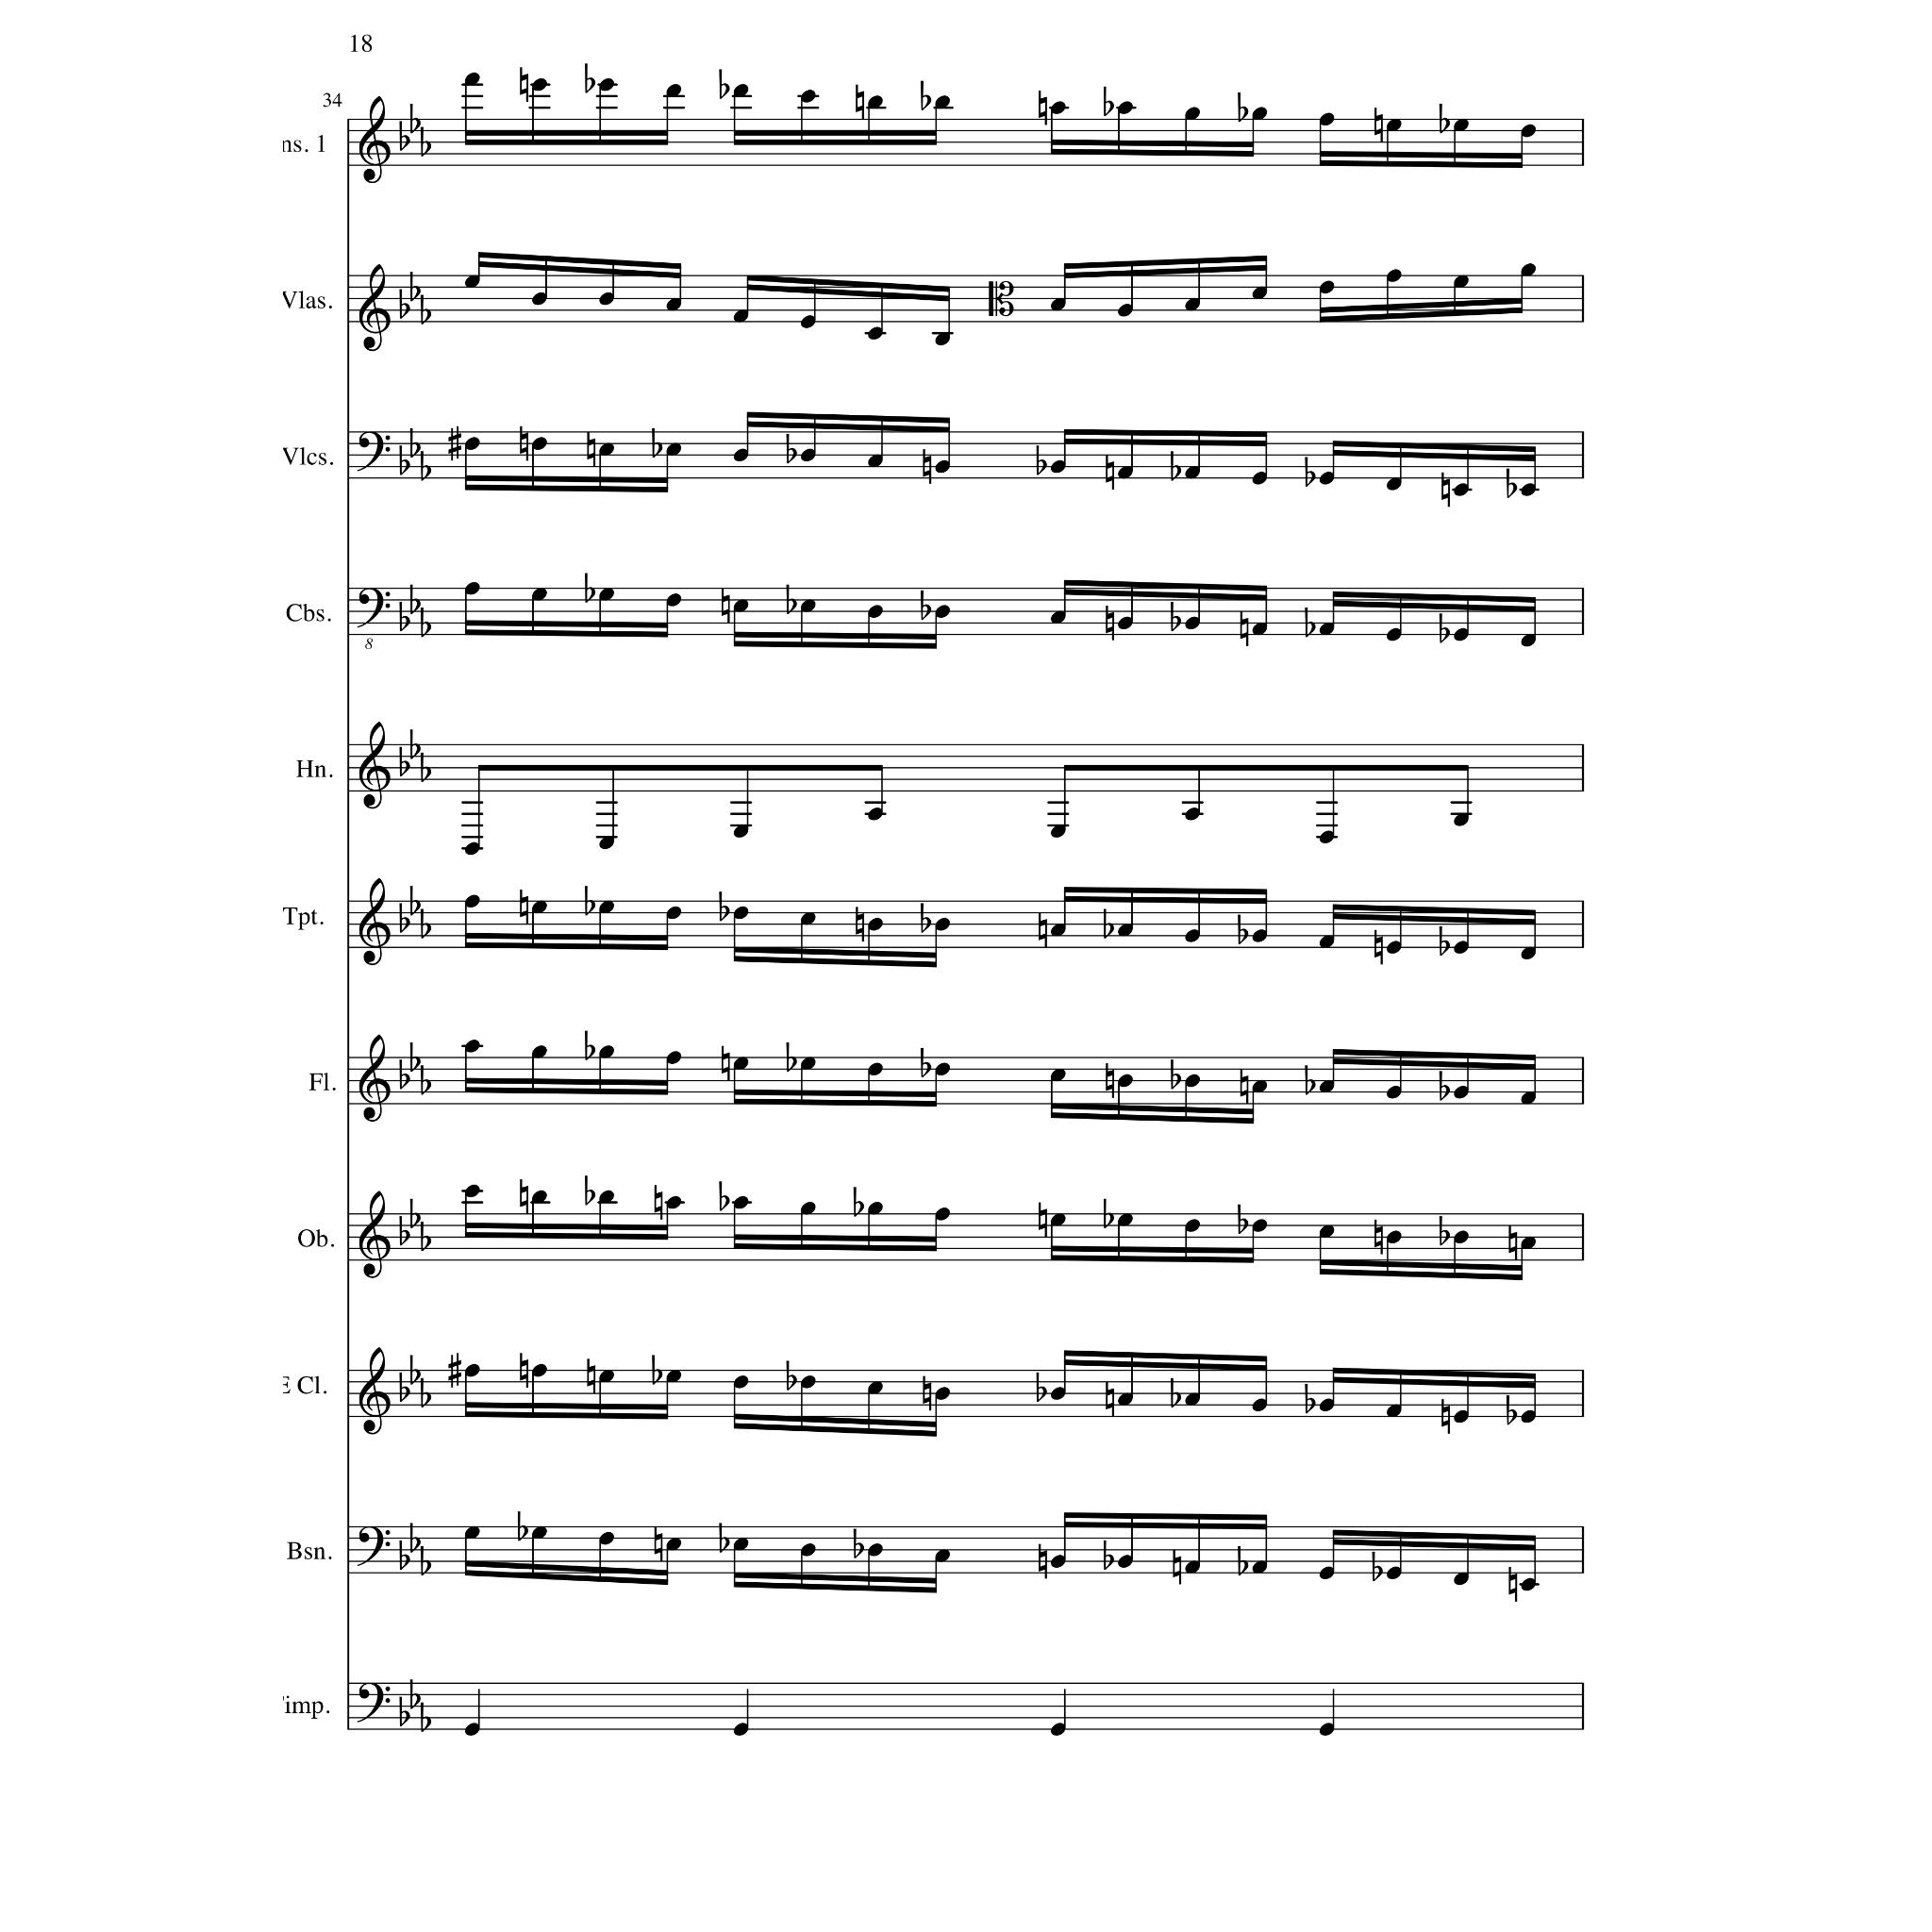fClef: (357, 589, 391, 628), (357, 1683, 391, 1723), (357, 1526, 391, 1566), (357, 432, 391, 472)
gClef: (358, 877, 391, 966), (358, 1191, 391, 1279), (358, 1034, 391, 1123), (358, 722, 391, 810), (358, 1347, 391, 1436), (358, 95, 391, 184)
noteheadBlack: (1453, 1230, 1470, 1245), (1453, 1085, 1470, 1100), (598, 836, 615, 851), (598, 77, 615, 92), (530, 77, 547, 92), (934, 332, 951, 347), (732, 1057, 749, 1072), (800, 911, 817, 926), (800, 89, 817, 104), (800, 1057, 817, 1072), (1387, 1404, 1402, 1419), (1387, 1230, 1402, 1245), (1387, 1085, 1402, 1100), (464, 581, 479, 596), (1251, 108, 1268, 121), (1251, 929, 1268, 942), (1251, 1560, 1268, 1574), (1251, 287, 1268, 300), (1251, 1398, 1268, 1411), (1251, 1220, 1268, 1233), (1251, 1080, 1268, 1093), (1251, 623, 1268, 636), (1251, 472, 1268, 485), (1049, 1387, 1066, 1400), (1049, 1723, 1066, 1736), (1049, 1555, 1066, 1568), (1453, 1573, 1470, 1586), (1453, 1410, 1470, 1424), (1453, 941, 1470, 955), (1453, 813, 1470, 826), (1453, 628, 1470, 641), (1453, 484, 1470, 497), (1453, 275, 1470, 289), (1453, 119, 1470, 132), (598, 1046, 615, 1059), (598, 901, 615, 914), (598, 588, 615, 601), (598, 443, 615, 457), (598, 292, 615, 306), (598, 1191, 615, 1204), (598, 1532, 615, 1545), (598, 1370, 615, 1383), (1049, 1213, 1066, 1226), (530, 588, 547, 601), (530, 1526, 547, 1540), (530, 1364, 547, 1377), (530, 1191, 547, 1204), (530, 1046, 547, 1059), (530, 901, 547, 914), (530, 438, 547, 451), (530, 292, 547, 306), (1049, 1069, 1066, 1082), (1049, 924, 1066, 937), (1049, 825, 1066, 839), (1049, 611, 1066, 625), (1049, 460, 1066, 474), (1049, 298, 1066, 311), (1049, 102, 1066, 115), (934, 1063, 951, 1076), (934, 1549, 951, 1562), (934, 1387, 951, 1400), (934, 1207, 951, 1221), (934, 918, 951, 931), (934, 605, 951, 618), (934, 460, 951, 474), (934, 96, 951, 109), (732, 309, 749, 323), (732, 1723, 749, 1736), (732, 1538, 749, 1551), (732, 1375, 749, 1389), (732, 1196, 749, 1209), (732, 907, 749, 920), (732, 825, 749, 839), (732, 600, 749, 613), (732, 449, 749, 462), (732, 84, 749, 97), (800, 1543, 817, 1557), (800, 1375, 817, 1389), (800, 1202, 817, 1215), (800, 315, 817, 328), (800, 449, 817, 462), (800, 600, 817, 613), (1319, 831, 1334, 844), (1319, 1723, 1334, 1736), (1319, 1567, 1334, 1580), (1319, 1398, 1334, 1411), (1319, 1224, 1334, 1238), (1319, 1080, 1334, 1093), (1319, 935, 1334, 948), (1319, 623, 1334, 636), (1319, 472, 1334, 485), (1319, 281, 1334, 294), (1319, 113, 1334, 126), (1117, 617, 1132, 630), (1117, 466, 1132, 479), (1117, 304, 1132, 317), (1117, 102, 1132, 115), (1117, 924, 1132, 937), (1185, 466, 1200, 479), (1185, 1560, 1200, 1574), (1185, 1393, 1200, 1407), (1185, 1220, 1200, 1233), (1185, 1074, 1200, 1088), (1185, 929, 1200, 942), (1185, 808, 1200, 821), (1185, 617, 1200, 630), (1185, 298, 1200, 311), (1185, 108, 1200, 121), (1117, 1555, 1132, 1568), (1117, 1393, 1132, 1407), (1117, 1213, 1132, 1226), (1117, 1074, 1132, 1088), (1521, 264, 1536, 277), (1521, 125, 1536, 138), (1521, 484, 1536, 497), (1521, 1578, 1536, 1591), (1521, 1410, 1536, 1424), (1521, 1237, 1536, 1250), (1521, 1091, 1536, 1105), (1521, 947, 1536, 960), (1521, 634, 1536, 647), (1387, 1567, 1402, 1580), (1387, 941, 1402, 955), (1387, 628, 1402, 641), (1387, 477, 1402, 491), (1387, 270, 1402, 283), (1387, 119, 1402, 132), (666, 593, 681, 607), (666, 1538, 681, 1551), (666, 1370, 681, 1383), (666, 1196, 681, 1209), (666, 1051, 681, 1064), (666, 907, 681, 920), (666, 443, 681, 457), (666, 298, 681, 311), (666, 84, 681, 97), (464, 275, 479, 289), (464, 73, 479, 86), (464, 438, 479, 451), (464, 1723, 479, 1736), (464, 1526, 479, 1540), (464, 1364, 479, 1377), (464, 1185, 479, 1198), (464, 1040, 479, 1053), (464, 895, 479, 908), (464, 842, 479, 856), (868, 455, 883, 468), (868, 327, 883, 341), (868, 96, 883, 109), (868, 605, 883, 618), (868, 1543, 883, 1557), (868, 1381, 883, 1394), (868, 1202, 883, 1215), (868, 1063, 883, 1076), (868, 918, 883, 931), (868, 808, 883, 821)
